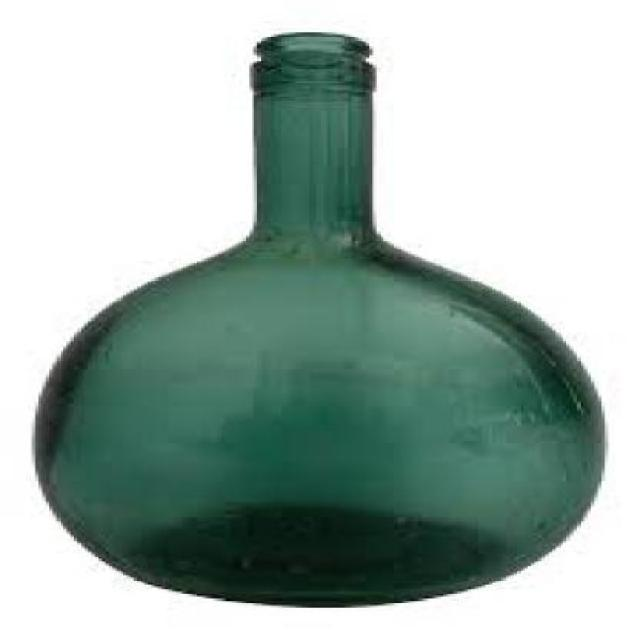GLASS: (31, 29, 602, 603)
